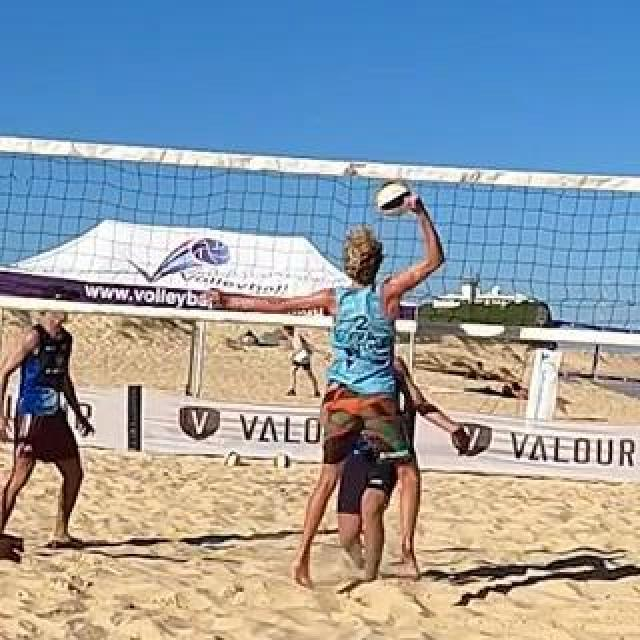volleyball: (376, 181, 412, 215), (222, 451, 240, 471), (273, 452, 291, 470)
